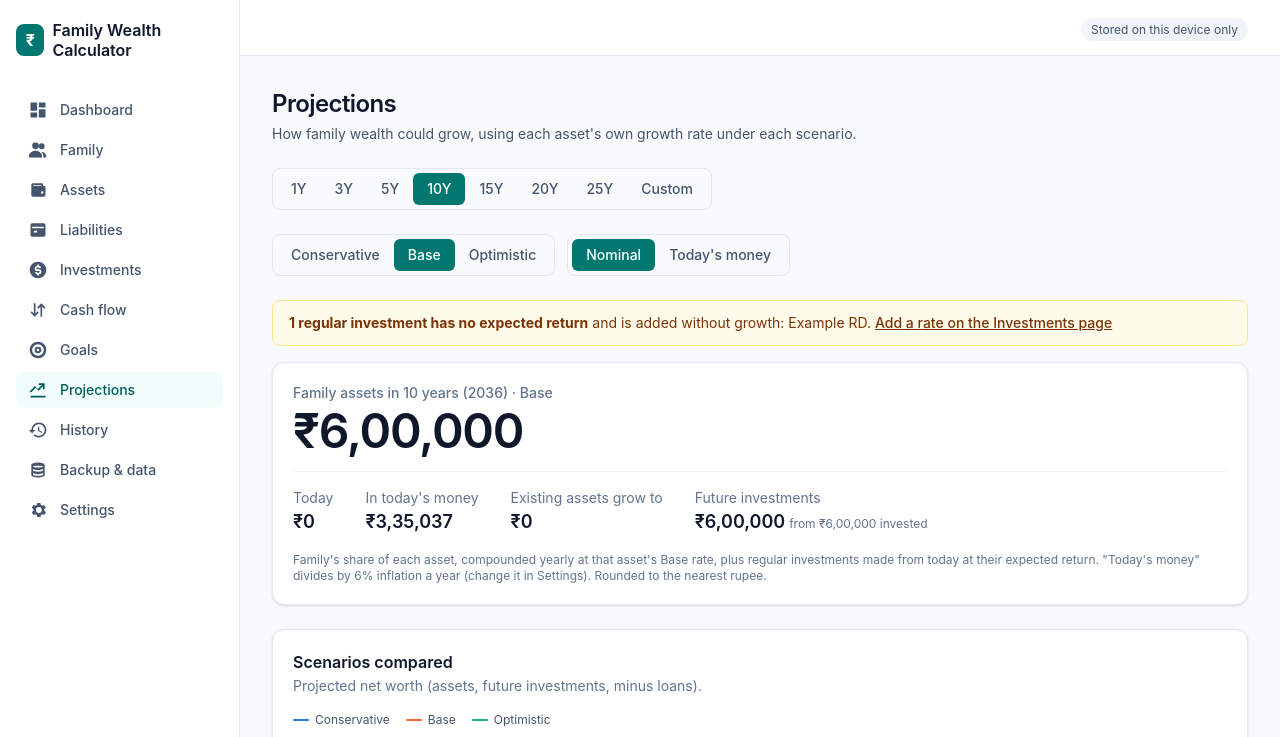
Test case: Projections with regular investments › projects contributions even with no assets yet
Click the radio button labelled "1Y" at (299, 188), box [291,180,307,197]
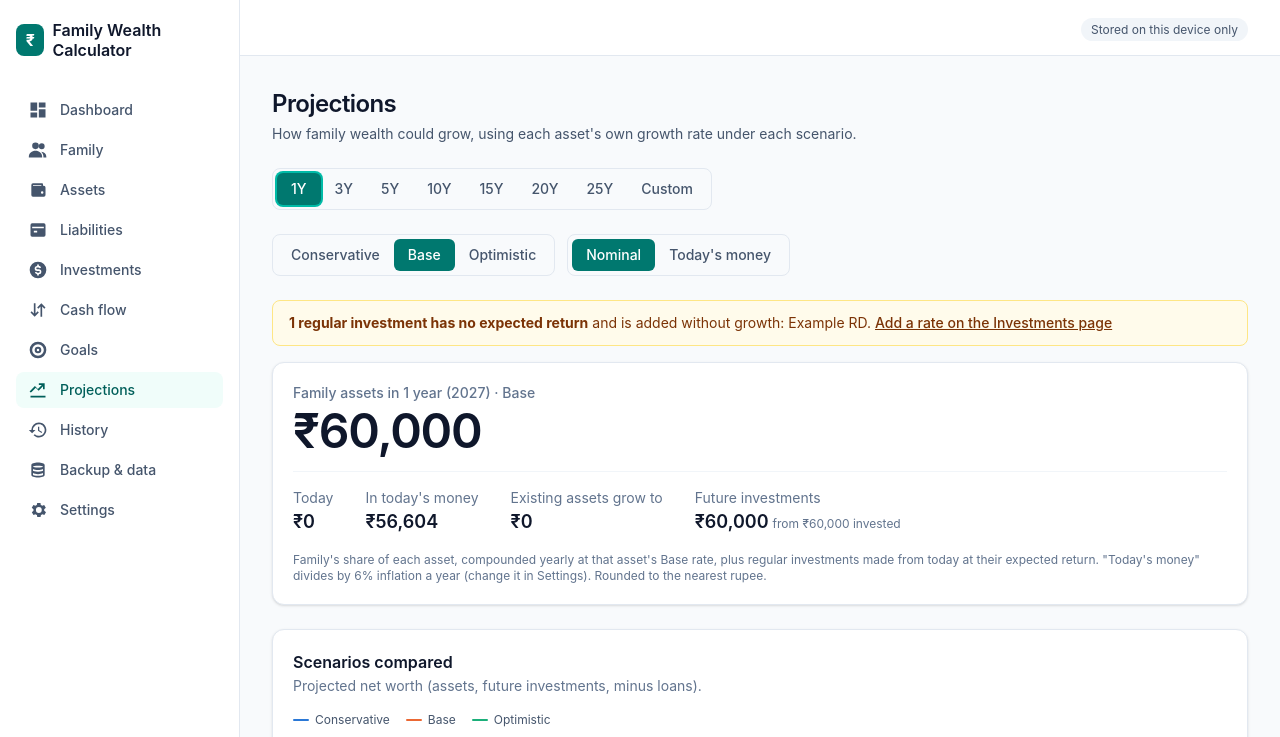
Expected: the message shows "1 regular investment has no expected return", [272,300,1248,346]
Expected: the text with test id "projected-total" reads "₹60,000", [293,401,482,460]
